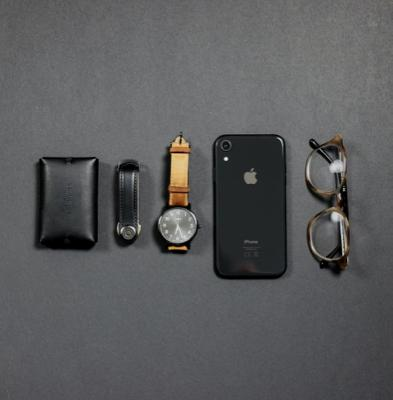Mobile Phone: (211, 132, 288, 279)
